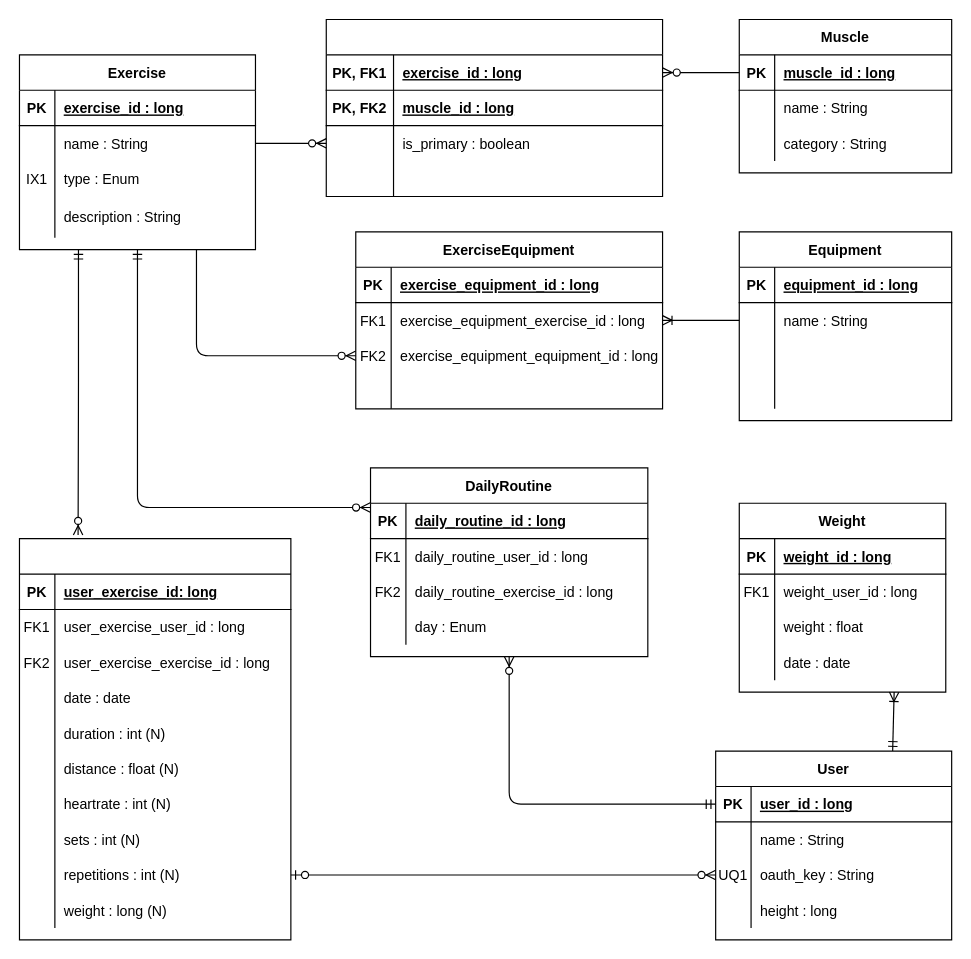
Image size: 971x959. Some labels were removed from this diagram. The shapes that lost their labels are listed below. From the top down, each one's box as (x1, y1, x2, y2) in pixels, then its label:
(325, 18, 663, 196): ExerciseMuscle
(18, 537, 291, 940): Stat
